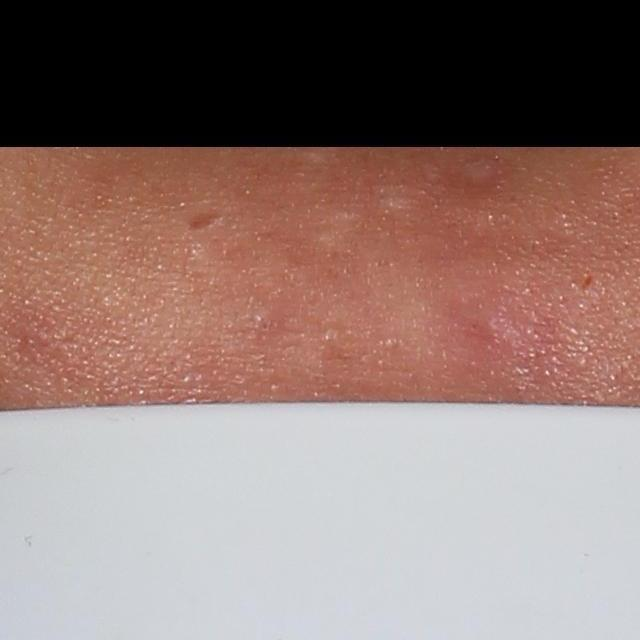atrophic_scar: (186, 212, 228, 230)
hypertrophic_scar: (315, 208, 363, 254), (371, 179, 419, 220)
